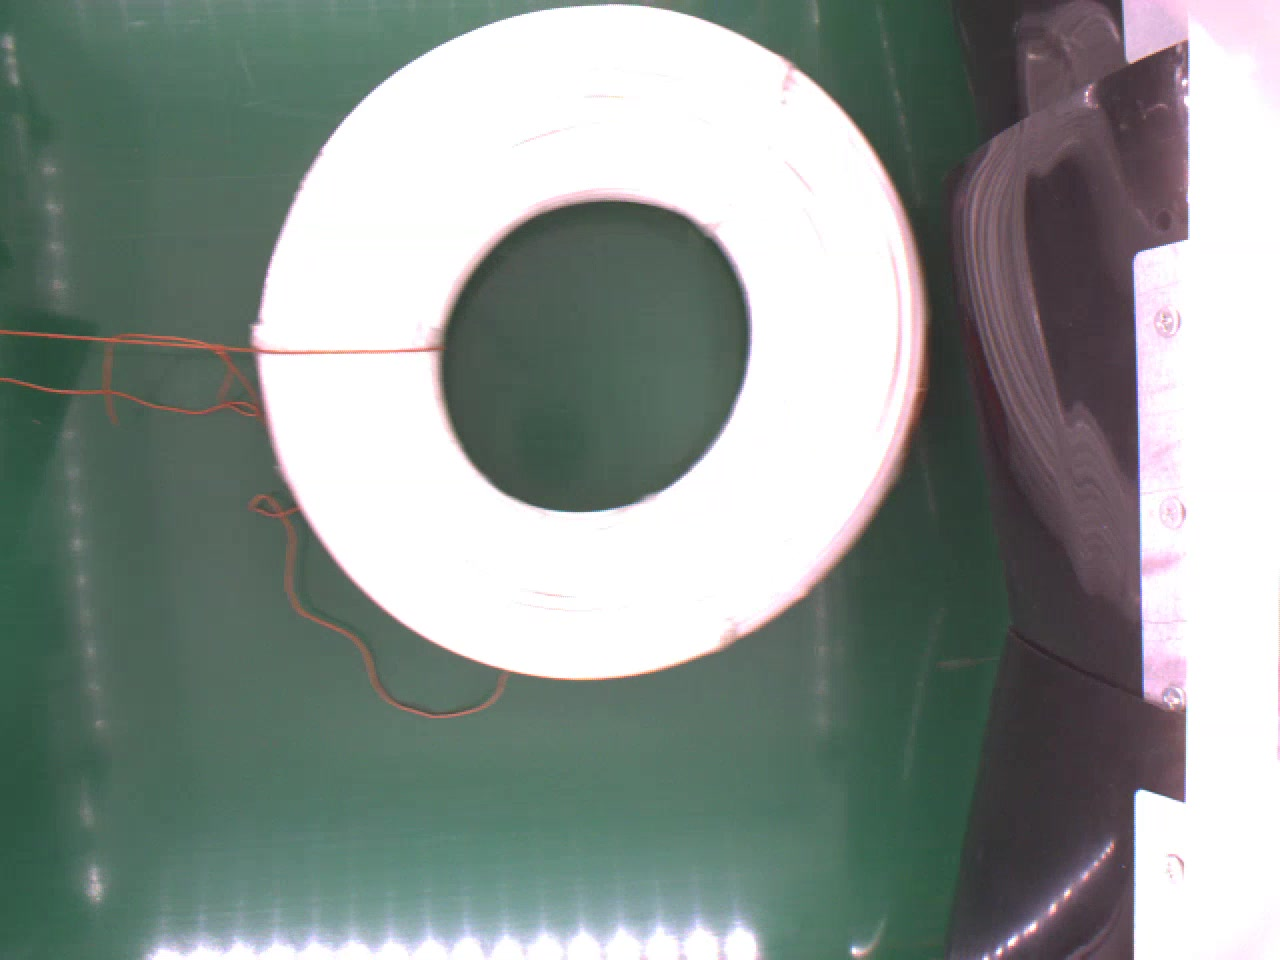white: (247, 4, 925, 675)
